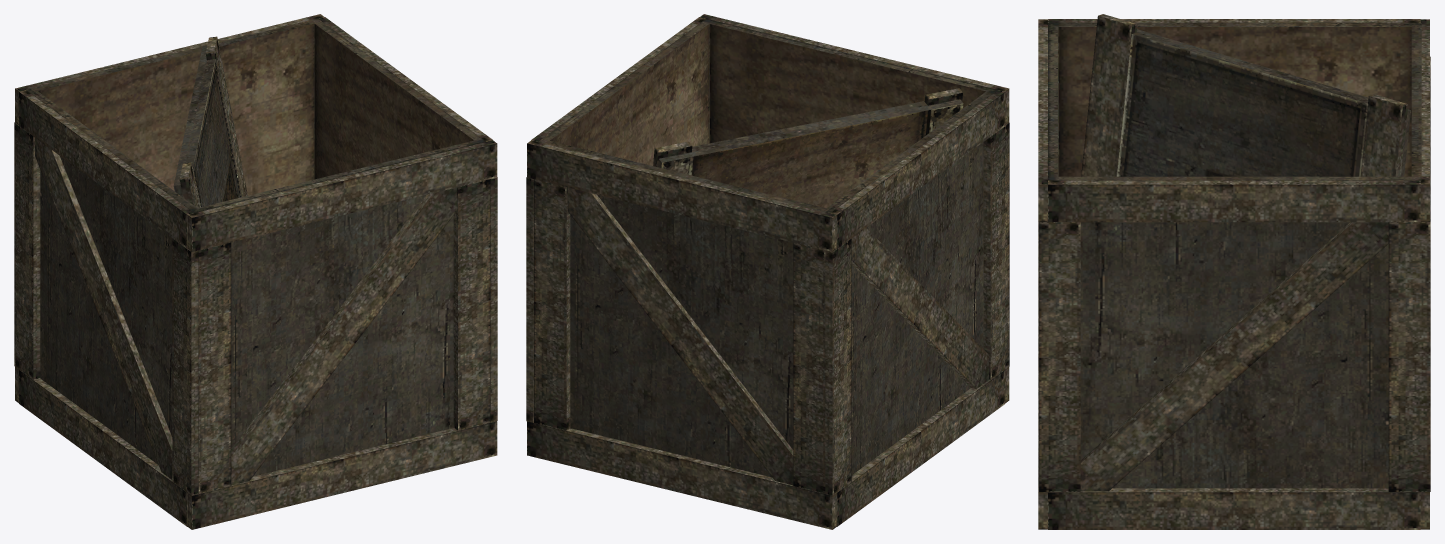
Rendered from storage_box_wood01_large_new_push.DAE.
3 renders of one model, left to right at view 1: azimuth 30°, elevation 25°; view 2: azimuth 150°, elevation 25°; view 3: azimuth 270°, elevation 25°, orthographic. The views are drawn at different scales.
Visible parts, largest first — view 1: Box006; view 2: Box006; view 3: Box006.
Boxes of the visible parts, box(x1,y1,x2,y2) form: Box006: box(14, 14, 497, 529); Box006: box(526, 14, 1009, 529); Box006: box(1038, 14, 1430, 529).
Size of the model in its own units: 0.9827 by 1 by 0.9841.
